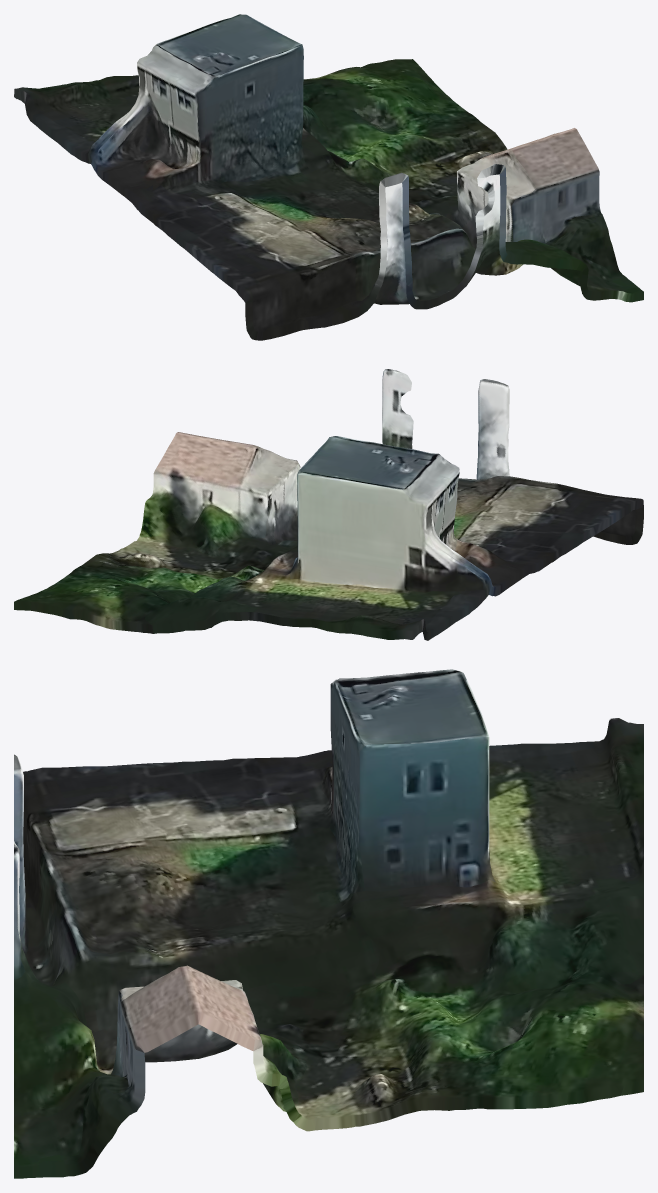
The model's file is z20-167727-405196-h0-yup-uvflip-v3-world.glb.
The picture shows the model from 3 angles, top to bottom: view 1: azimuth 30°, elevation 25°; view 2: azimuth 150°, elevation 25°; view 3: azimuth 270°, elevation 25°; orthographic projection. The views are drawn at different scales.
Bounding box in the file's own units: 30.2 × 15.56 × 30.32.
1 material, 1 textured.
